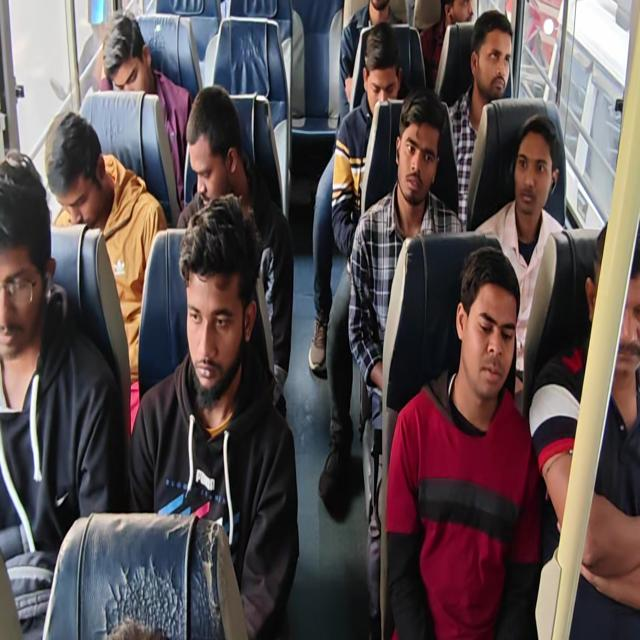person: (1, 1, 638, 638), (128, 193, 300, 638), (347, 87, 464, 637), (384, 245, 544, 638), (0, 149, 126, 638), (528, 218, 640, 638), (46, 110, 168, 434), (176, 85, 294, 419), (308, 21, 403, 378), (473, 112, 565, 400), (102, 11, 193, 208), (447, 10, 513, 228), (338, 0, 407, 124), (419, 0, 473, 89)
